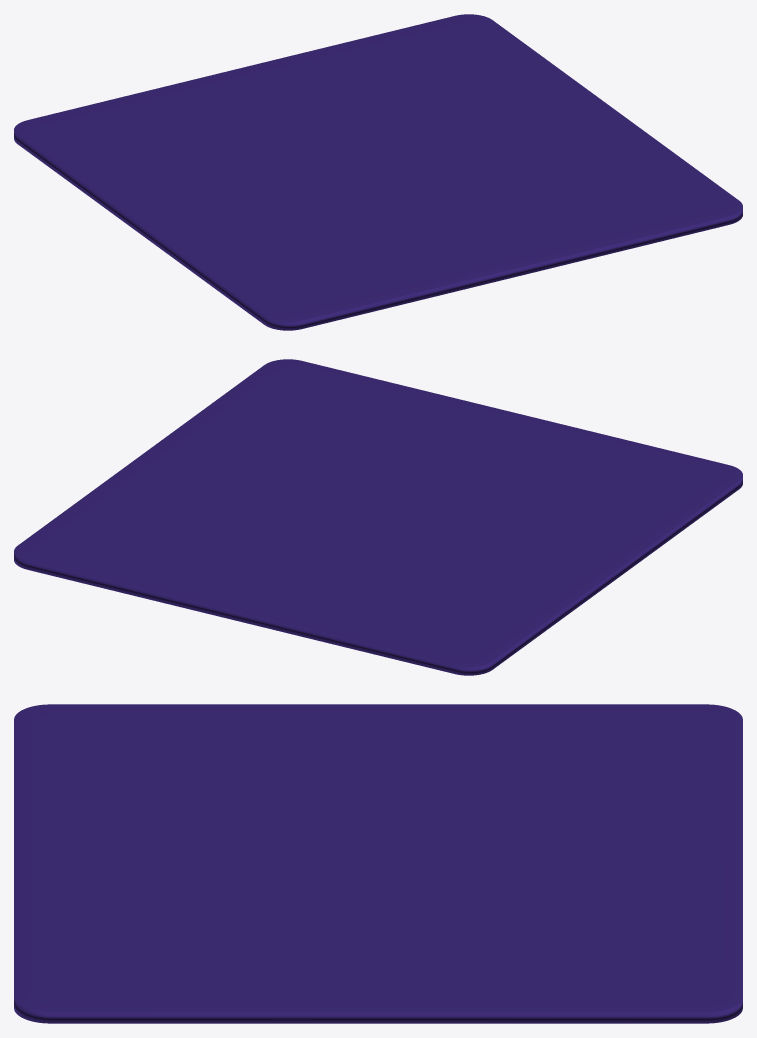
Rendered from TileMeshGedeGJ.fbx.
3 renders of one model, top to bottom at view 1: azimuth 30°, elevation 25°; view 2: azimuth 150°, elevation 25°; view 3: azimuth 270°, elevation 25°, orthographic. The views are drawn at different scales.
Visible parts, largest first — view 1: Tilemash.002; view 2: Tilemash.002; view 3: Tilemash.002.
Part boxes in pixels (<box>): Tilemash.002: <box>14,14,742,330</box>; Tilemash.002: <box>14,359,742,675</box>; Tilemash.002: <box>14,704,742,1023</box>.
Bounding box in the file's own units: 1223 × 22.82 × 1223.
